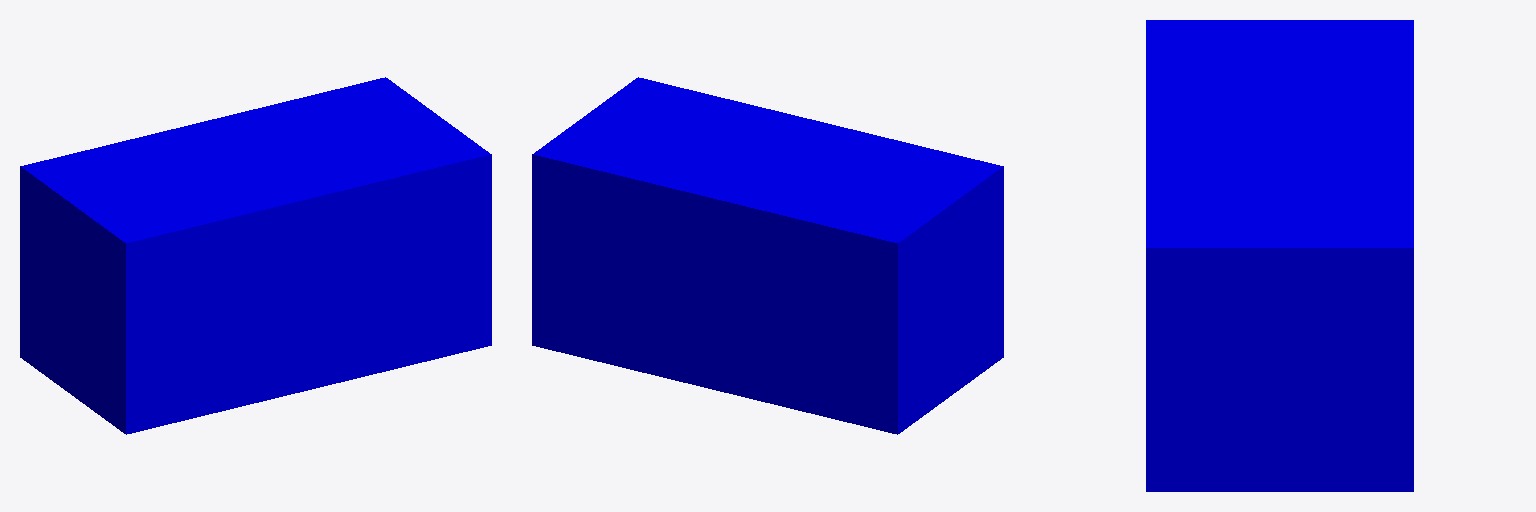
The robot description file, URDF, robot "block_blue":
<?xml version="1.0"?>
<robot name="block_blue">
  <link name="base_link">
    <contact>
      <lateral_friction value="0.7"/>
      <spinning_friction value="0.005"/>
    </contact>
    <inertial>
      <origin rpy="0 0 0" xyz="0 0 0"/>
      <mass value="1"/>
      <inertia ixx="1" ixy="0" ixz="0" iyy="1" iyz="0" izz="1"/>
    </inertial>
    <visual>
      <origin rpy="0 0 0" xyz="0.0 0.0 0.0"/>
      <geometry>
        <box size="0.1 0.05 0.05"/>
      </geometry>
      <material name="blue">
        <color rgba="0 0 1 1"/>
      </material>
    </visual>
    <collision>
      <origin rpy="0 0 0" xyz="0.0 0.0 0.0"/>
      <geometry>
        <box size="0.1 0.05 0.05"/>
      </geometry>
    </collision>
  </link>
</robot>

--- Render facts (derived) ---
The picture shows the robot from 3 angles, left to right: view 1: azimuth 30°, elevation 25°; view 2: azimuth 150°, elevation 25°; view 3: azimuth 270°, elevation 25°; orthographic projection.
Robot: block_blue — 1 links, 0 joints (none); root link base_link; default pose: every joint at zero.
Links seen in each view (by area): view 1: base_link; view 2: base_link; view 3: base_link.
Boxes of the visible links, left/top/right/bottom form: base_link: left=20, top=77, right=491, bottom=434; base_link: left=532, top=77, right=1003, bottom=434; base_link: left=1146, top=20, right=1413, bottom=491.
Bounding box of the posed robot: 0.1 × 0.05 × 0.05 m (x, y, z).
Geometry: primitives only (box / cylinder / sphere), no mesh files.
